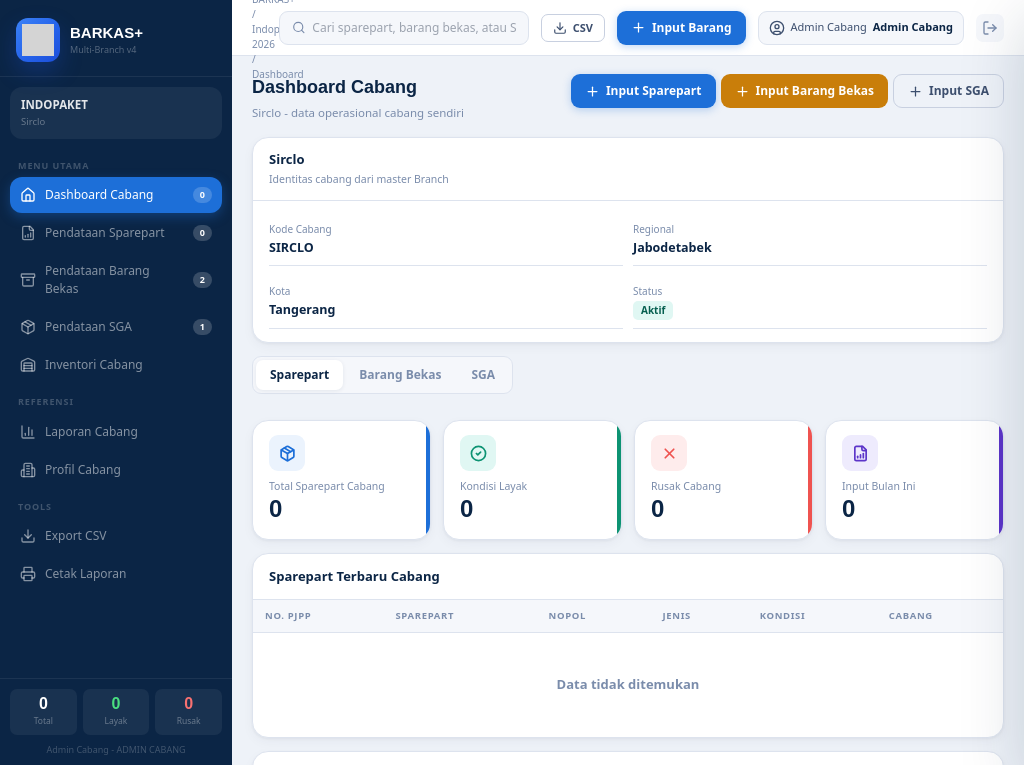
Test: BarkasApp v3 UI › lets branch users choose SGA from topbar input and locks the branch field
Click the button "Input Barang" at (681, 28), box [617,10,746,44]
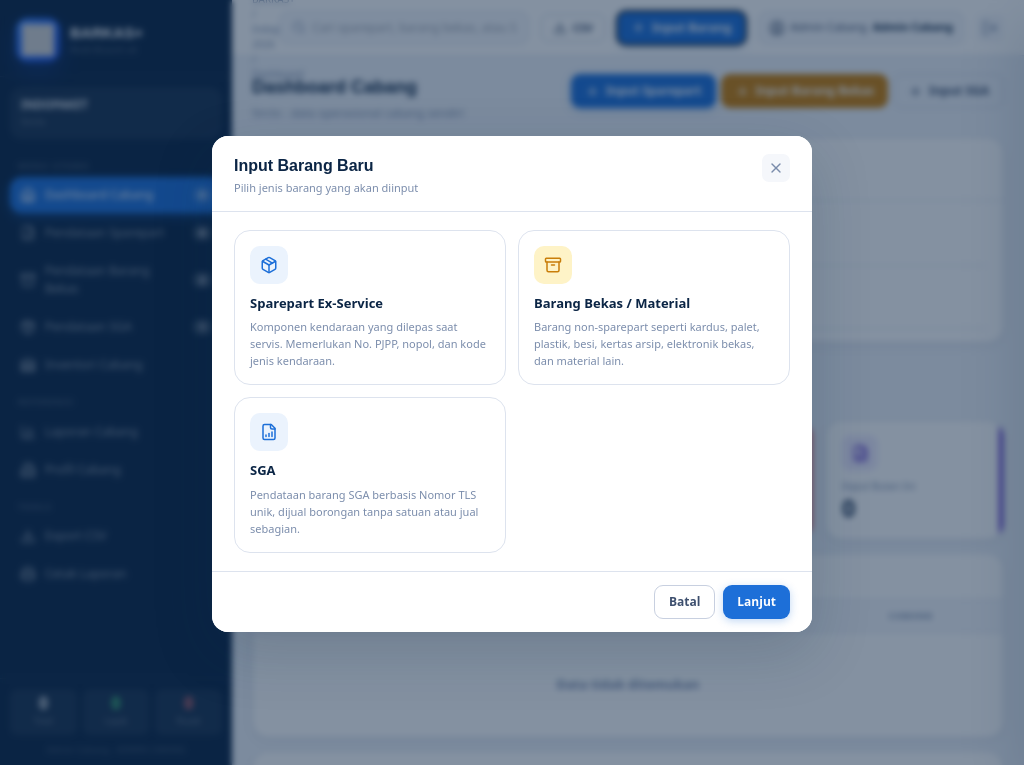
Check: the text "SGA" is shown
Click the text "SGA" at (263, 470), box [250,461,276,479]
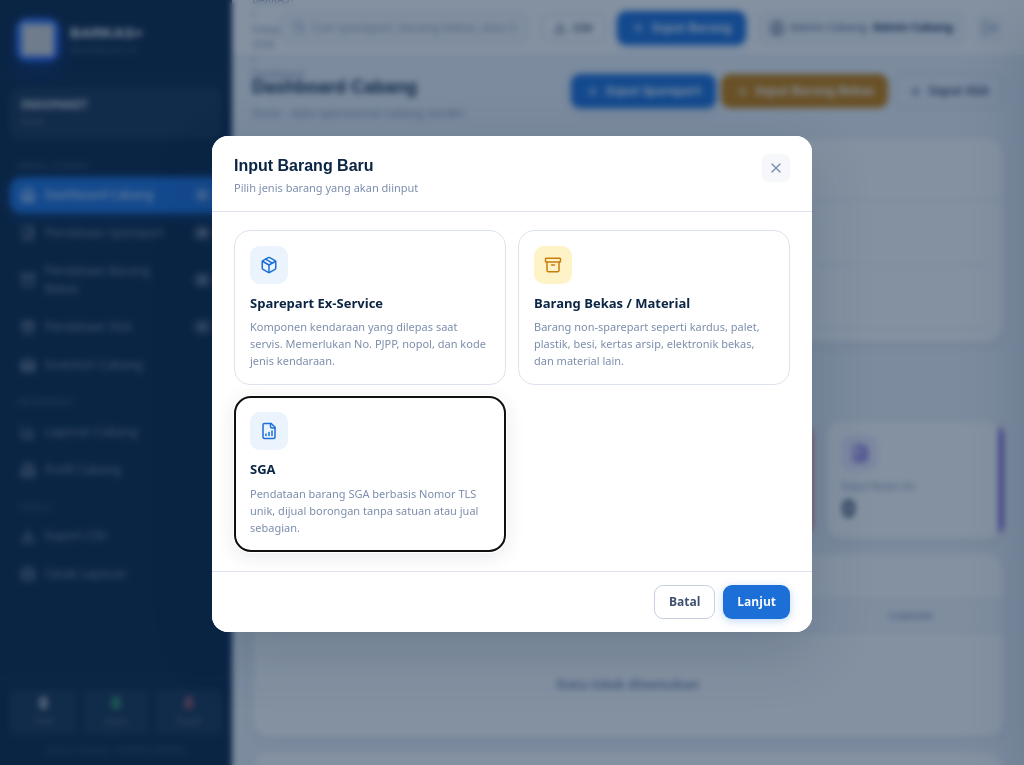
Click the button "Lanjut" at (757, 602), box [723,585,790,619]
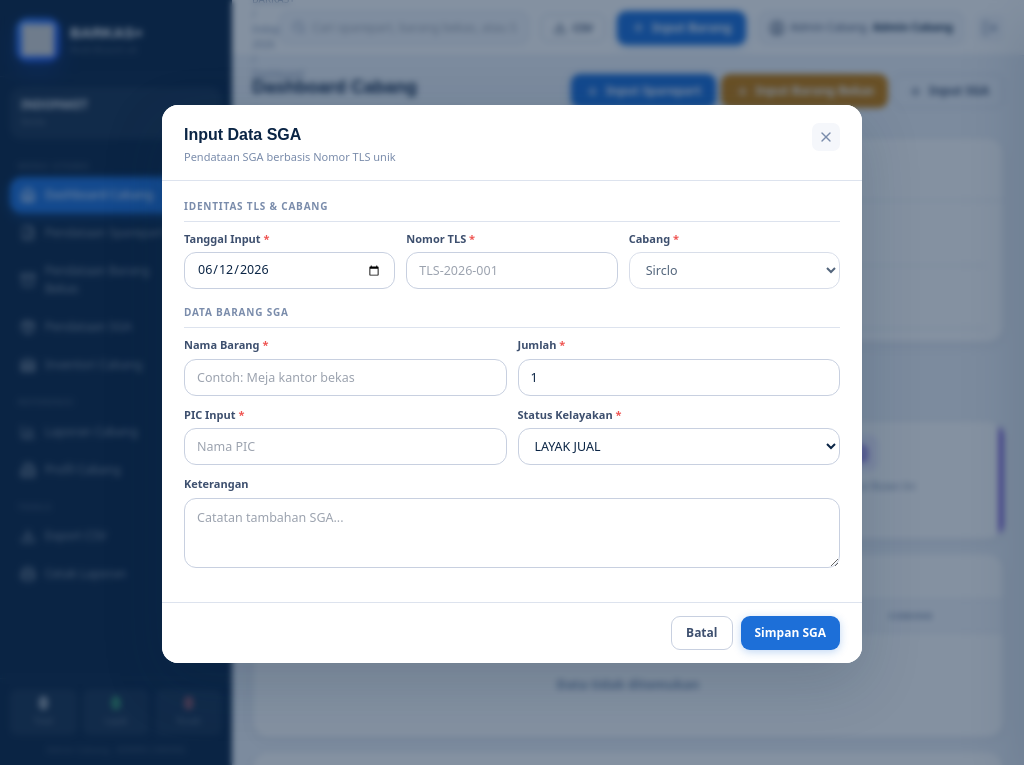
Check: the text "Input Data SGA" is shown, box [184,126,301,143]
Check: the 1st dropdown is disabled, box [629,252,840,289]
Check: the 1st dropdown shows "Sirclo", box [629,252,840,289]
